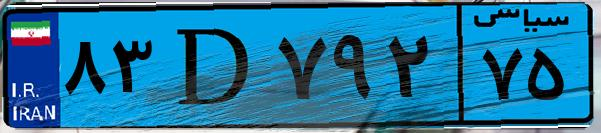2: (385, 28, 445, 110)
3: (110, 28, 158, 98)
5: (525, 38, 570, 115)
7: (270, 28, 330, 110), (475, 38, 525, 113)
8: (57, 26, 110, 100)
9: (330, 28, 385, 110)
D: (158, 12, 270, 120)
